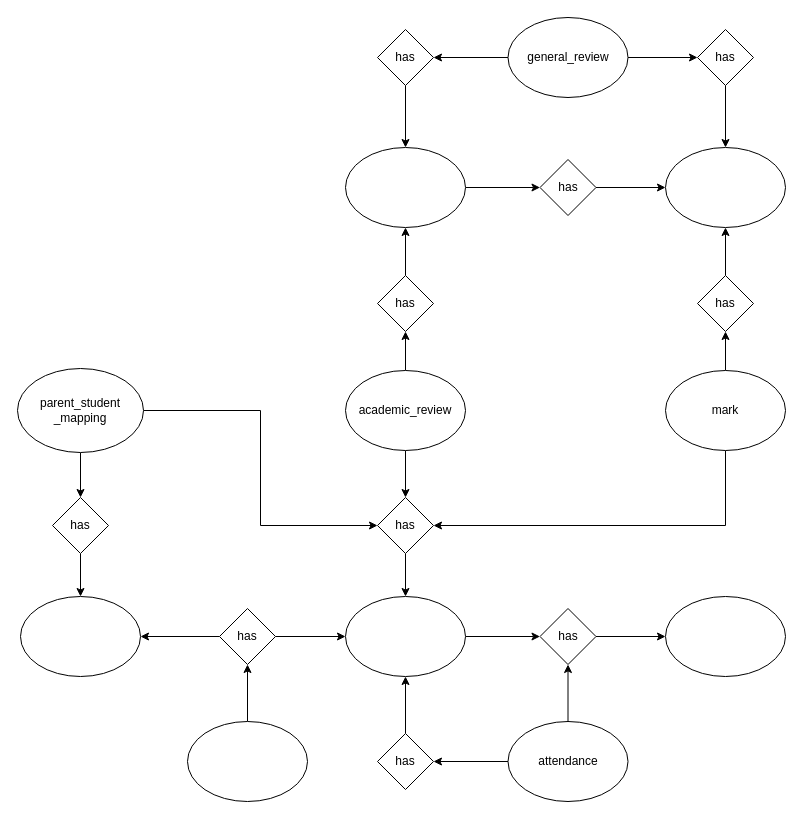
Some shapes in this 803 by 819 pixel diagram are drawn without their labels. The shapes that lost their labels are listed below. From the top down, each one's centre as x and y in pixels, then its label:
(405,187): teacher
(725,187): subject
(80,636): parents
(405,636): student
(725,636): class
(247,761): notification
